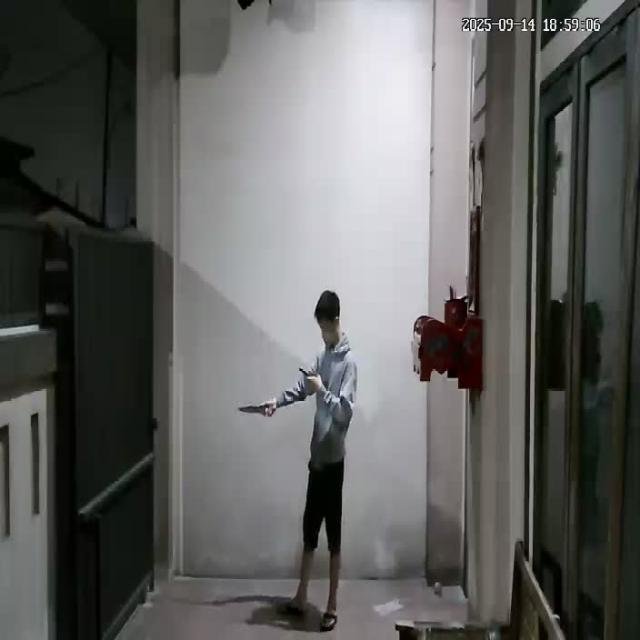senjata_tajam: (236, 402, 264, 417)
